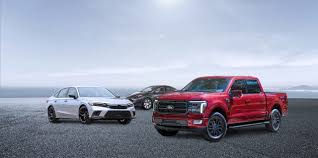car: (152, 74, 292, 142), (43, 83, 138, 126), (127, 84, 180, 109)
